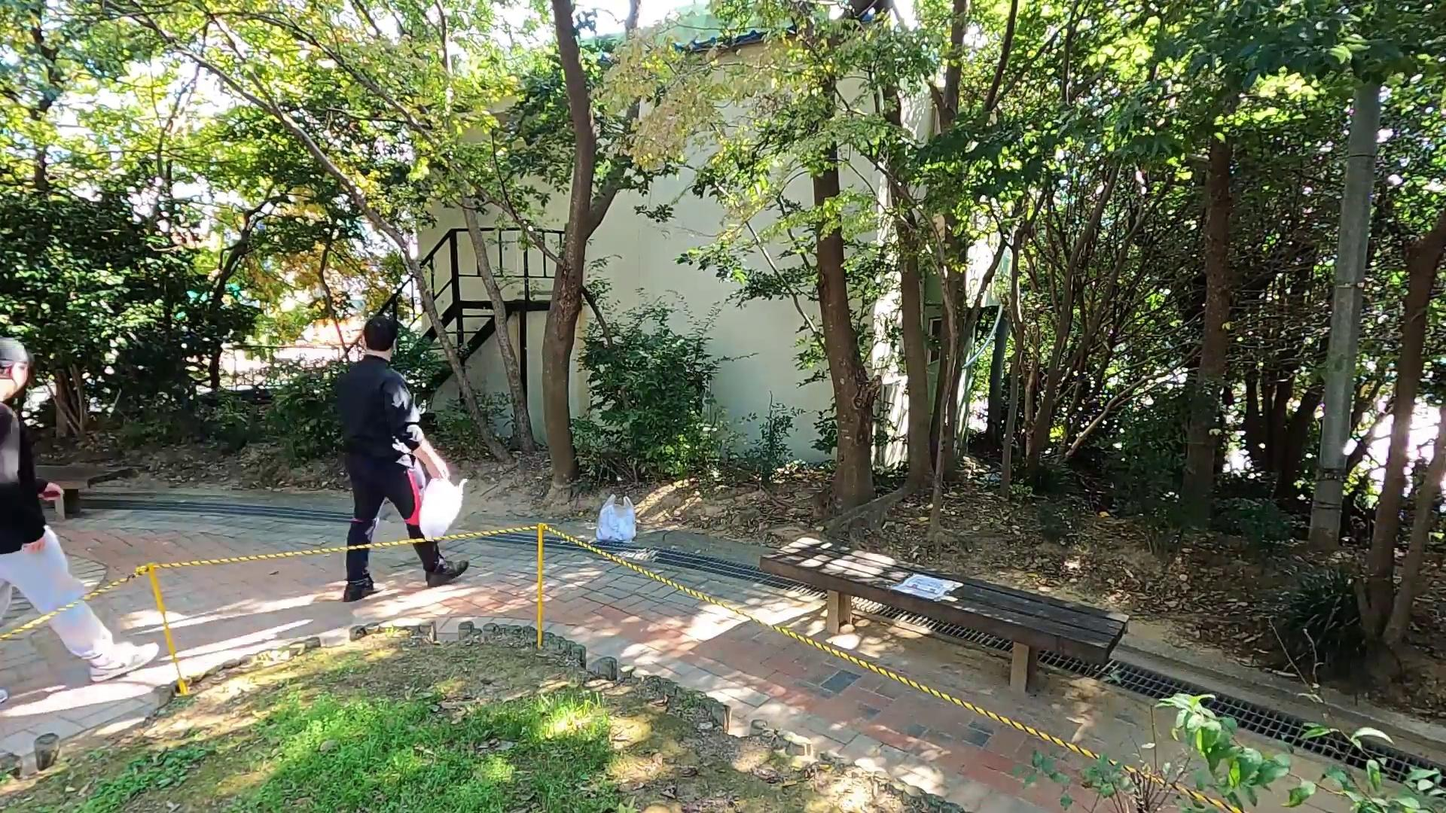person: (0, 331, 163, 707), (326, 312, 497, 599)
trash: (415, 460, 472, 541), (585, 494, 644, 554)
